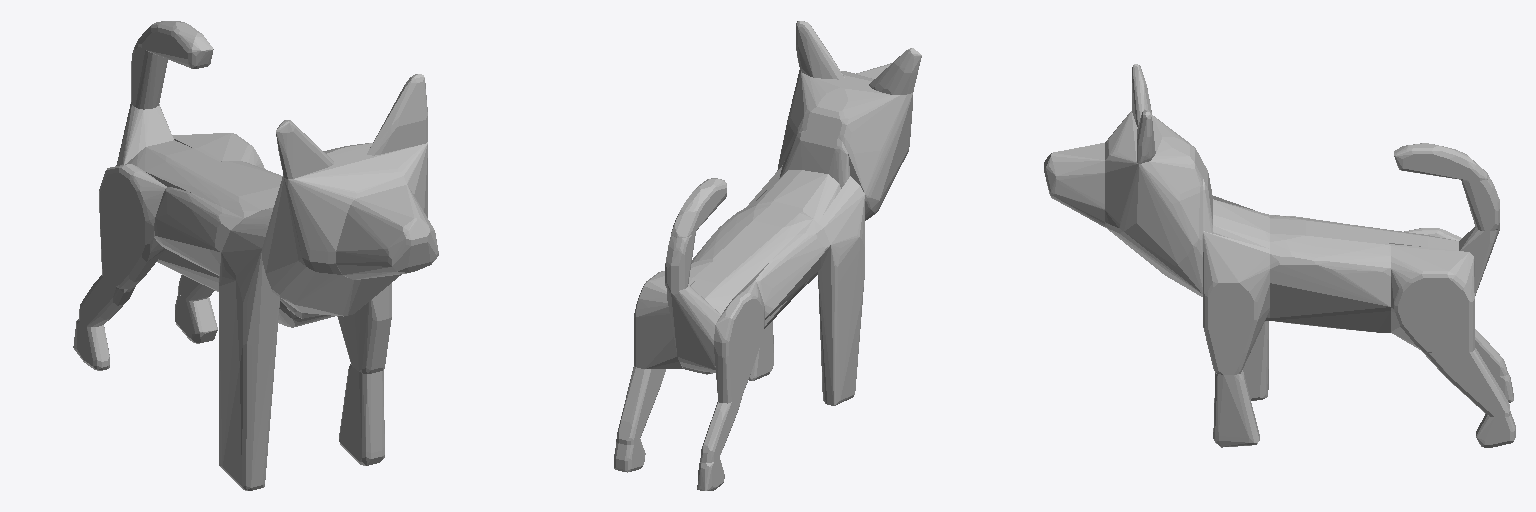
The robot description file, URDF, robot "root":
<?xml version="1.0"?>
<robot name="root">
  <link name="base_link">
    <visual>
      <origin xyz="0 0 0" rpy="0 0 0" />
      <geometry>
        <mesh filename="../meshes/unidex_sem_Dog-a39484a9d57d1b149fdc03fc6d14c305_008.obj" scale="1.0000E+00 1.0000E+00 1.0000E+00" />
      </geometry>
      <material name="">
        <color rgba="7.50E-01 7.50E-01 7.50E-01 1" />
      </material>
    </visual>
    <collision>
      <origin xyz="0 0 0" rpy="0 0 0" />
      <geometry>
        <mesh filename="../meshes/unidex_sem_Dog-a39484a9d57d1b149fdc03fc6d14c305_008.obj" scale="1.0000E+00 1.0000E+00 1.0000E+00" />
      </geometry>
    </collision>
  </link>
</robot>

--- What the picture shows (computed from the rendered views, not written in the file) ---
The picture shows the robot from 3 angles, left to right: view 1: azimuth 30°, elevation 25°; view 2: azimuth 150°, elevation 25°; view 3: azimuth 270°, elevation 25°; orthographic projection.
Robot: root — 1 links, 0 joints (none); root link base_link; default pose: every joint at zero.
Visible links, largest first — view 1: base_link; view 2: base_link; view 3: base_link.
Boxes of the visible links, x1,y1,x2,y2 form: base_link: (73, 21, 438, 490); base_link: (614, 21, 921, 490); base_link: (1044, 64, 1515, 447).
Bounding box of the posed robot: 0.0396 × 0.1226 × 0.0959 m (x, y, z).
Meshes: 1 distinct files referenced, 1 mesh visuals loaded (1 OBJ).
